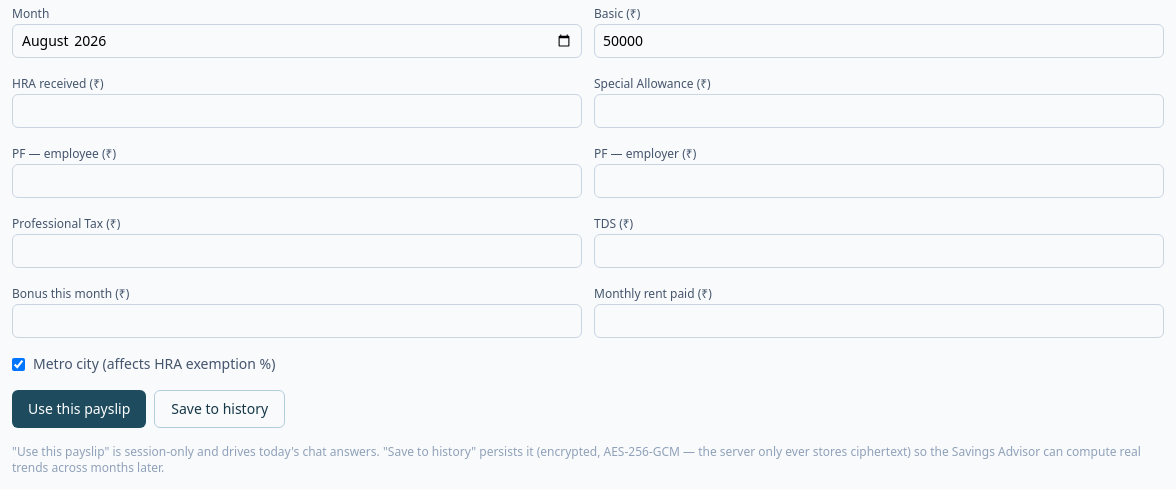
Test: ManualEntryForm › Use this payslip › sets the session payslip (isMetro + only the filled-in fields, numbers coerced) and confirms with a checkmark
Click the button "Use this payslip" at (79, 409), box [12,390,146,428]
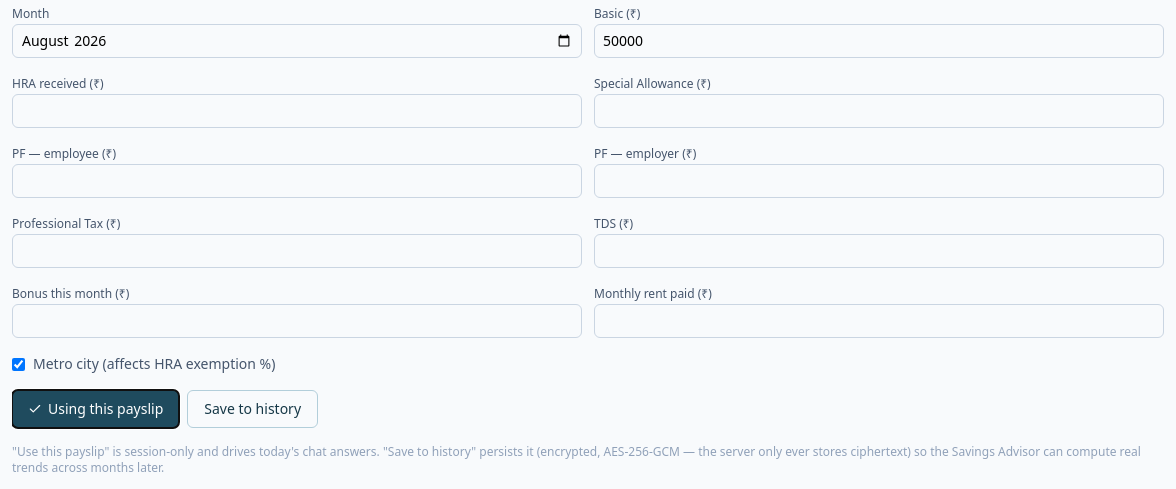
expect the button "Using this payslip" is shown: met, box [12,390,179,428]
